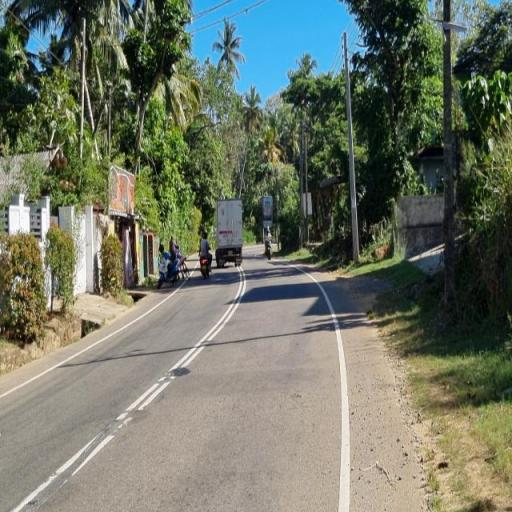double_white_line: (114, 262, 244, 429)
